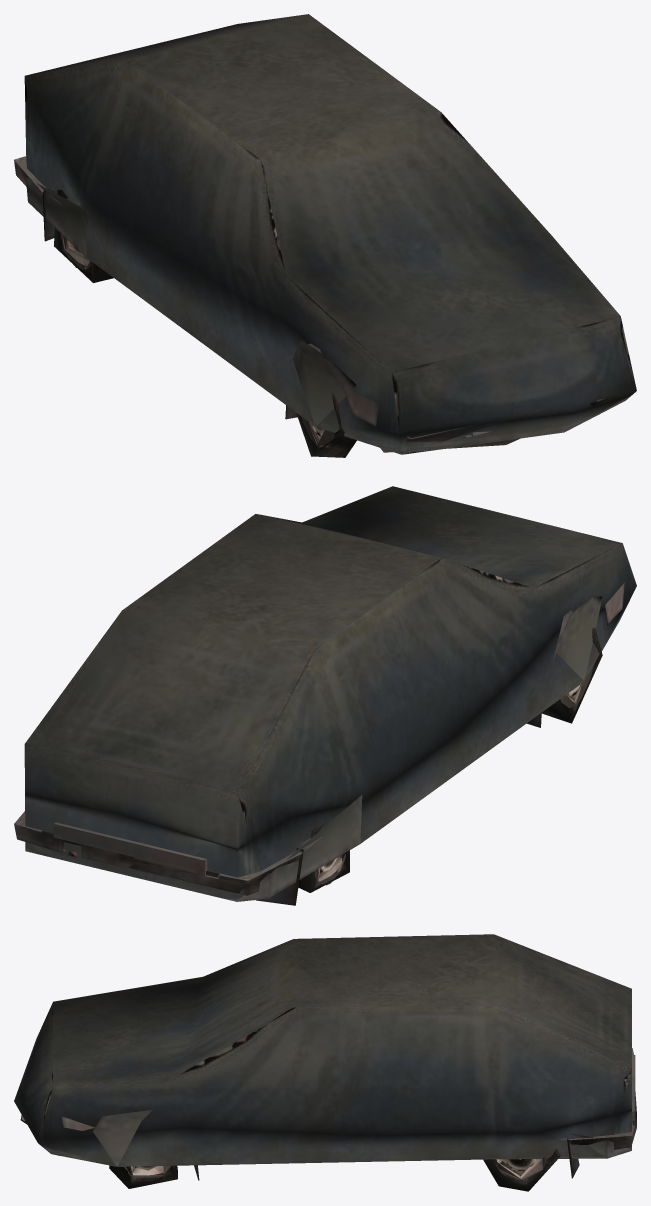
Rendered from covered_car.glb.
3 renders of one model, top to bottom at view 1: azimuth 30°, elevation 25°; view 2: azimuth 150°, elevation 25°; view 3: azimuth 270°, elevation 25°, orthographic. The views are drawn at different scales.
Visible parts, largest first — view 1: covered_car_wheel_01; view 2: covered_car_wheel_01; view 3: covered_car_wheel_01.
Part boxes in pixels (x1=…): covered_car_wheel_01: x1=14, y1=14, x2=636, y2=457; covered_car_wheel_01: x1=14, y1=486, x2=636, y2=905; covered_car_wheel_01: x1=14, y1=934, x2=636, y2=1191.
Bounding box in the file's own units: 1.74 × 1.33 × 4.3.
1 material, 1 textured.
